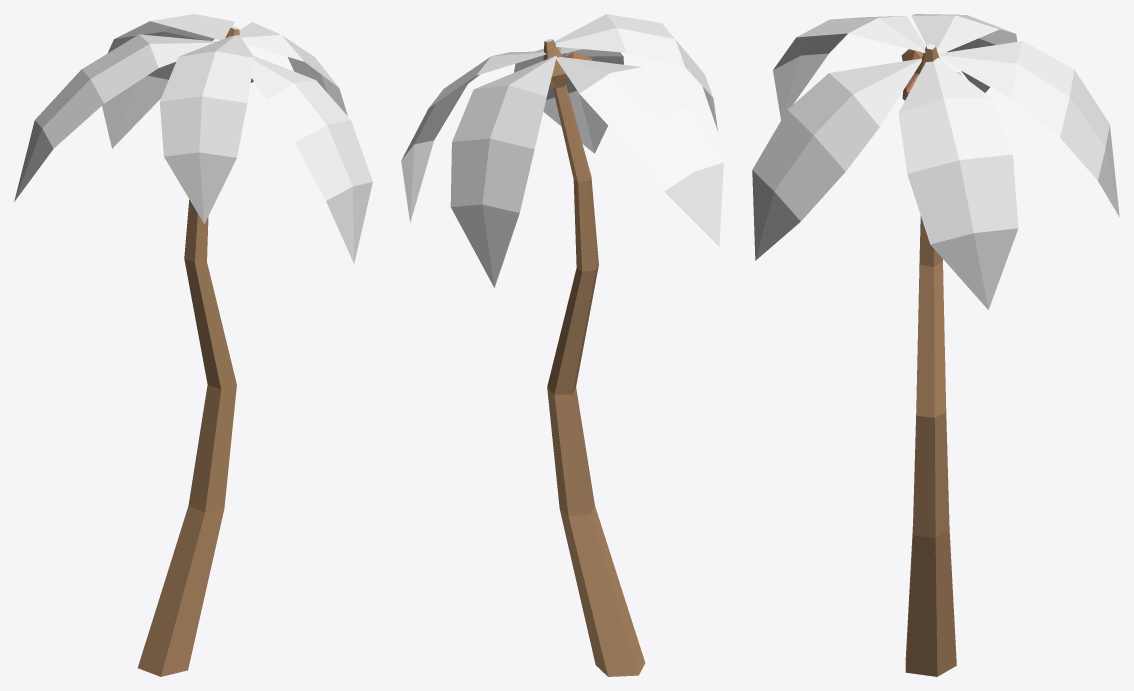
The model's file is Palm_Tree_Coconut_OneSided_s_Snow_04.fbx.
3 renders of one model, left to right at view 1: azimuth 30°, elevation 25°; view 2: azimuth 150°, elevation 25°; view 3: azimuth 270°, elevation 25°, orthographic. The views are drawn at different scales.
Visible parts, largest first — view 1: Palm_Tree_Coconut_OneSided_s_Snow_04; view 2: Palm_Tree_Coconut_OneSided_s_Snow_04; view 3: Palm_Tree_Coconut_OneSided_s_Snow_04.
Part boxes in pixels (x1,y1,x2,y2): Palm_Tree_Coconut_OneSided_s_Snow_04: [14, 14, 372, 676]; Palm_Tree_Coconut_OneSided_s_Snow_04: [401, 14, 723, 676]; Palm_Tree_Coconut_OneSided_s_Snow_04: [752, 14, 1119, 676].
Bounding box in the file's own units: 243 × 462 × 232.
